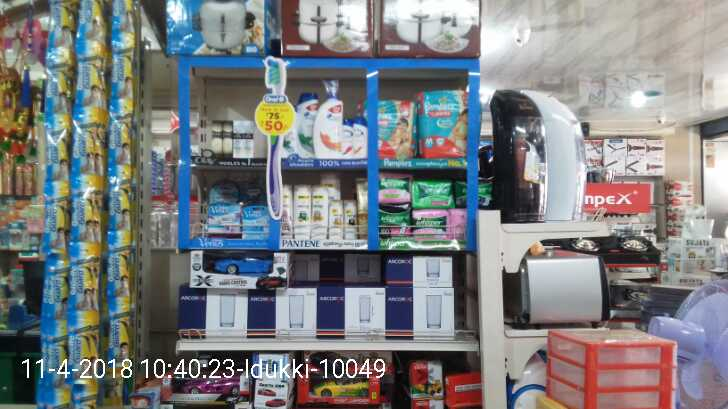gillete: (41, 258, 69, 337), (105, 114, 134, 188), (75, 117, 98, 201), (72, 259, 98, 333), (43, 129, 69, 202), (105, 188, 135, 251), (107, 250, 133, 317), (75, 55, 103, 117), (73, 333, 98, 401), (40, 338, 64, 407), (72, 201, 98, 259), (43, 202, 69, 258), (48, 64, 69, 129), (114, 46, 134, 114), (106, 317, 133, 367), (51, 1, 71, 63), (79, 1, 102, 54), (114, 1, 133, 45)
venus: (206, 181, 240, 232), (242, 204, 271, 239)
